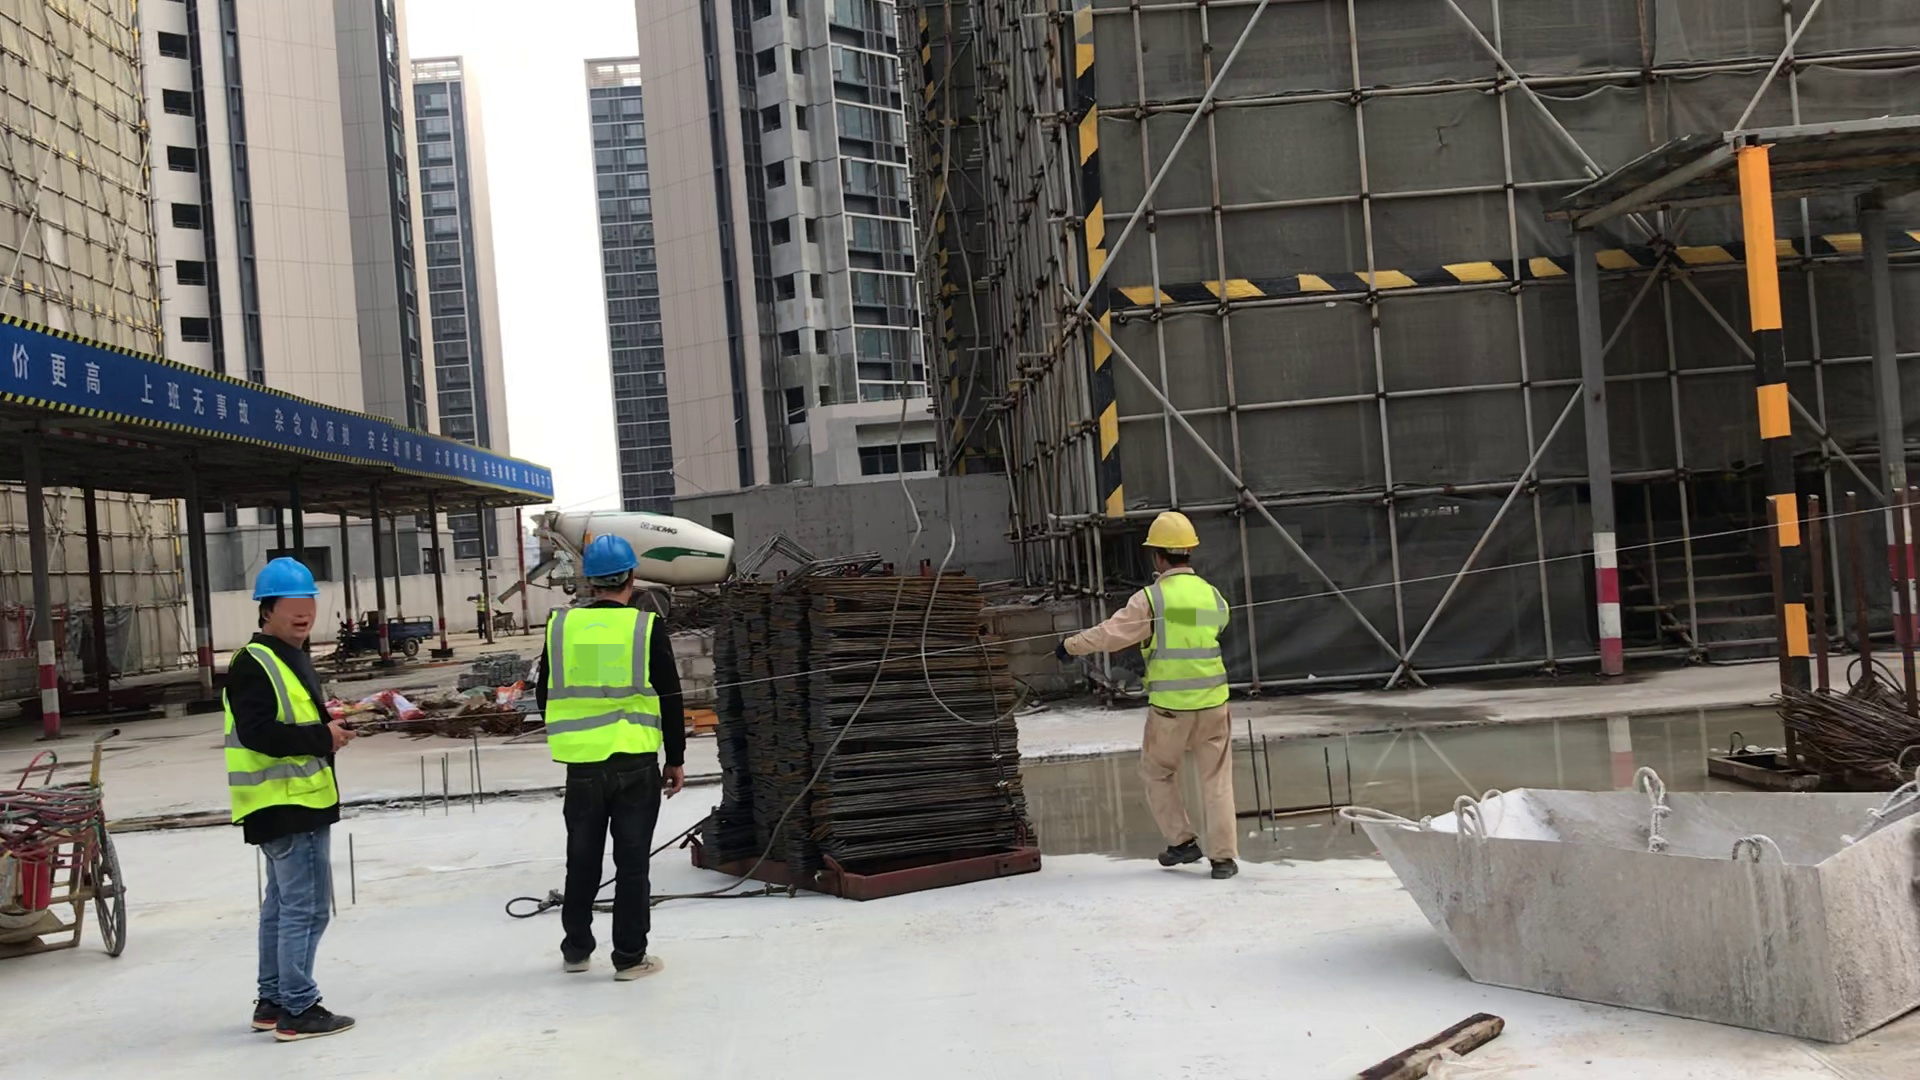handcart: (1, 728, 125, 958)
helmet: (254, 557, 319, 600), (581, 538, 636, 577), (1144, 514, 1199, 551)
hopper: (1354, 776, 1920, 1034)
person: (224, 556, 365, 1042), (544, 534, 677, 985), (1086, 516, 1239, 881)
slogan: (4, 327, 561, 493)
vest: (221, 643, 336, 818), (548, 610, 658, 766), (1144, 577, 1235, 710)
